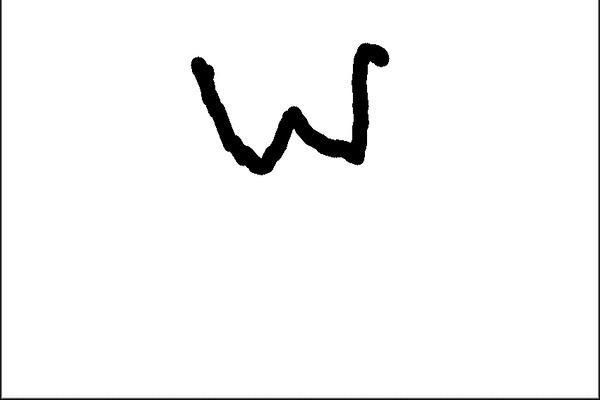w: (167, 25, 408, 190)
